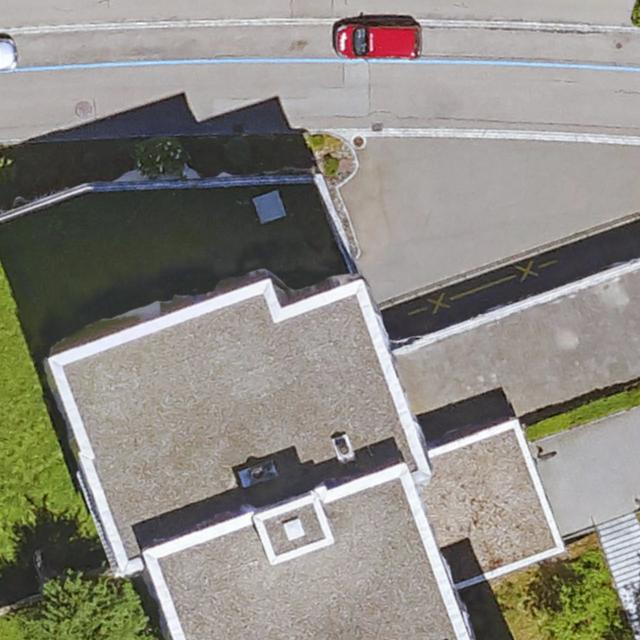tree: (7, 570, 152, 640), (545, 561, 623, 639)
